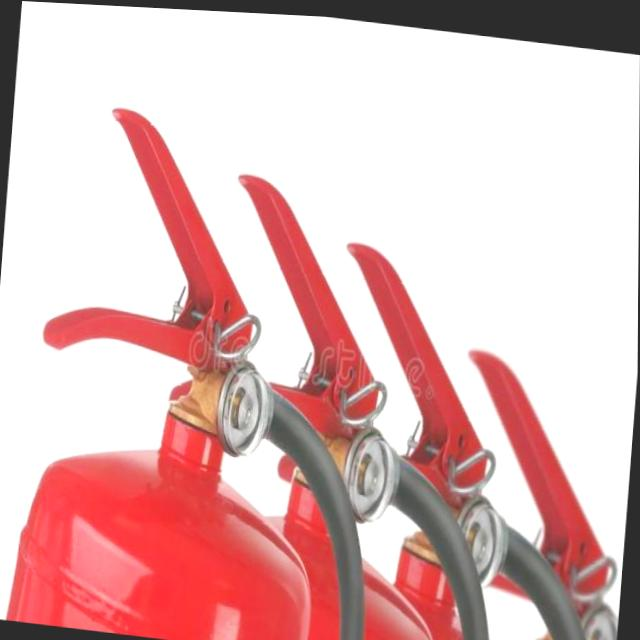FireExtinguisher: (0, 86, 405, 640), (159, 157, 530, 640), (297, 221, 639, 640), (411, 333, 637, 640)
